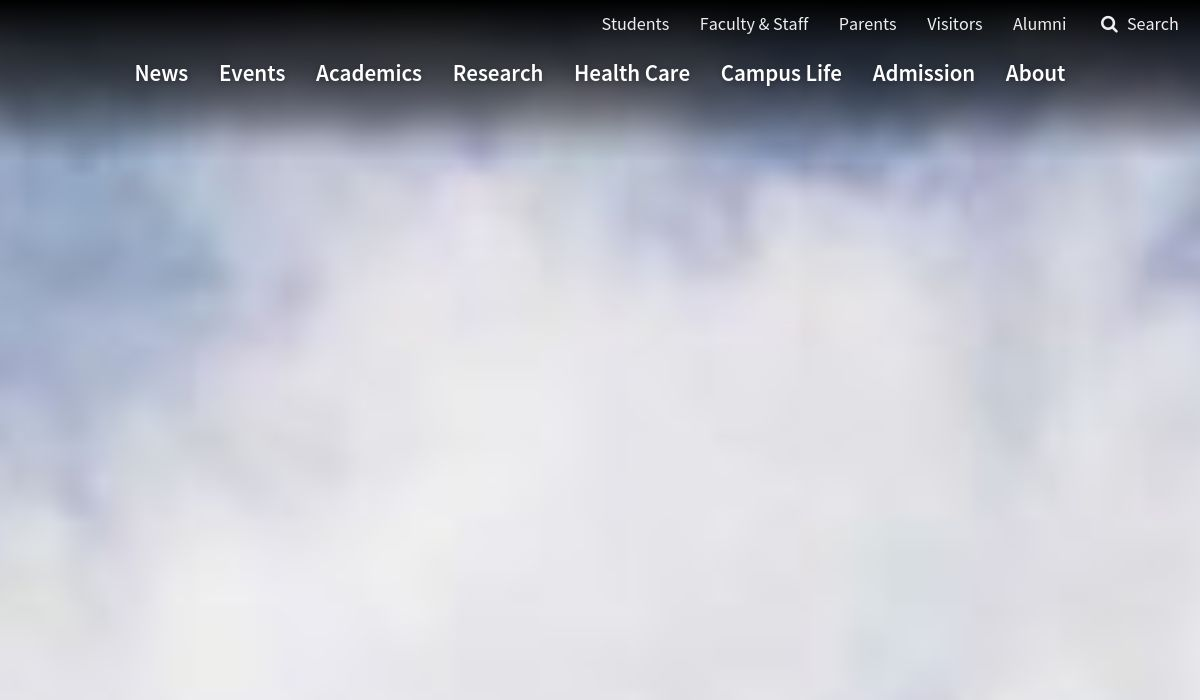menu: (1, 1, 1200, 103)
menu-button: (571, 60, 693, 91), (721, 60, 843, 90), (862, 61, 984, 91), (310, 60, 423, 90), (440, 60, 553, 90), (699, 8, 813, 37), (995, 61, 1084, 92), (599, 8, 674, 37), (833, 8, 908, 37), (919, 8, 994, 37), (1003, 8, 1078, 37), (215, 60, 289, 89), (132, 60, 196, 88)
menu-search: (1093, 1, 1200, 36)
